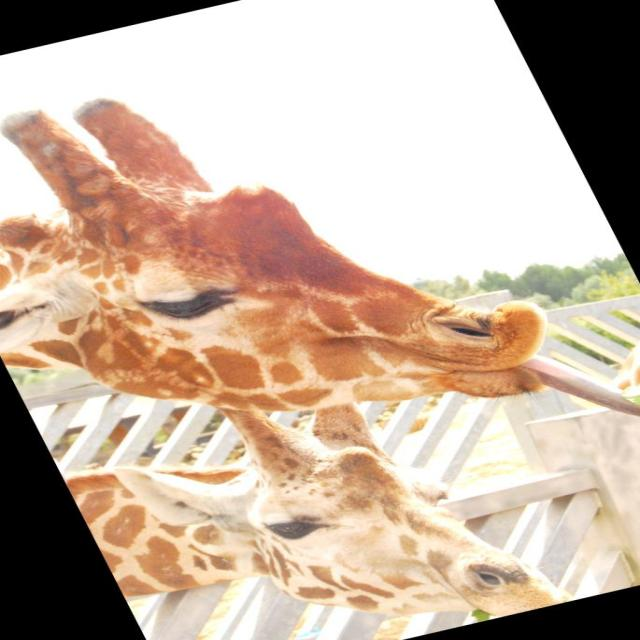Giraffe: (4, 86, 608, 626)
